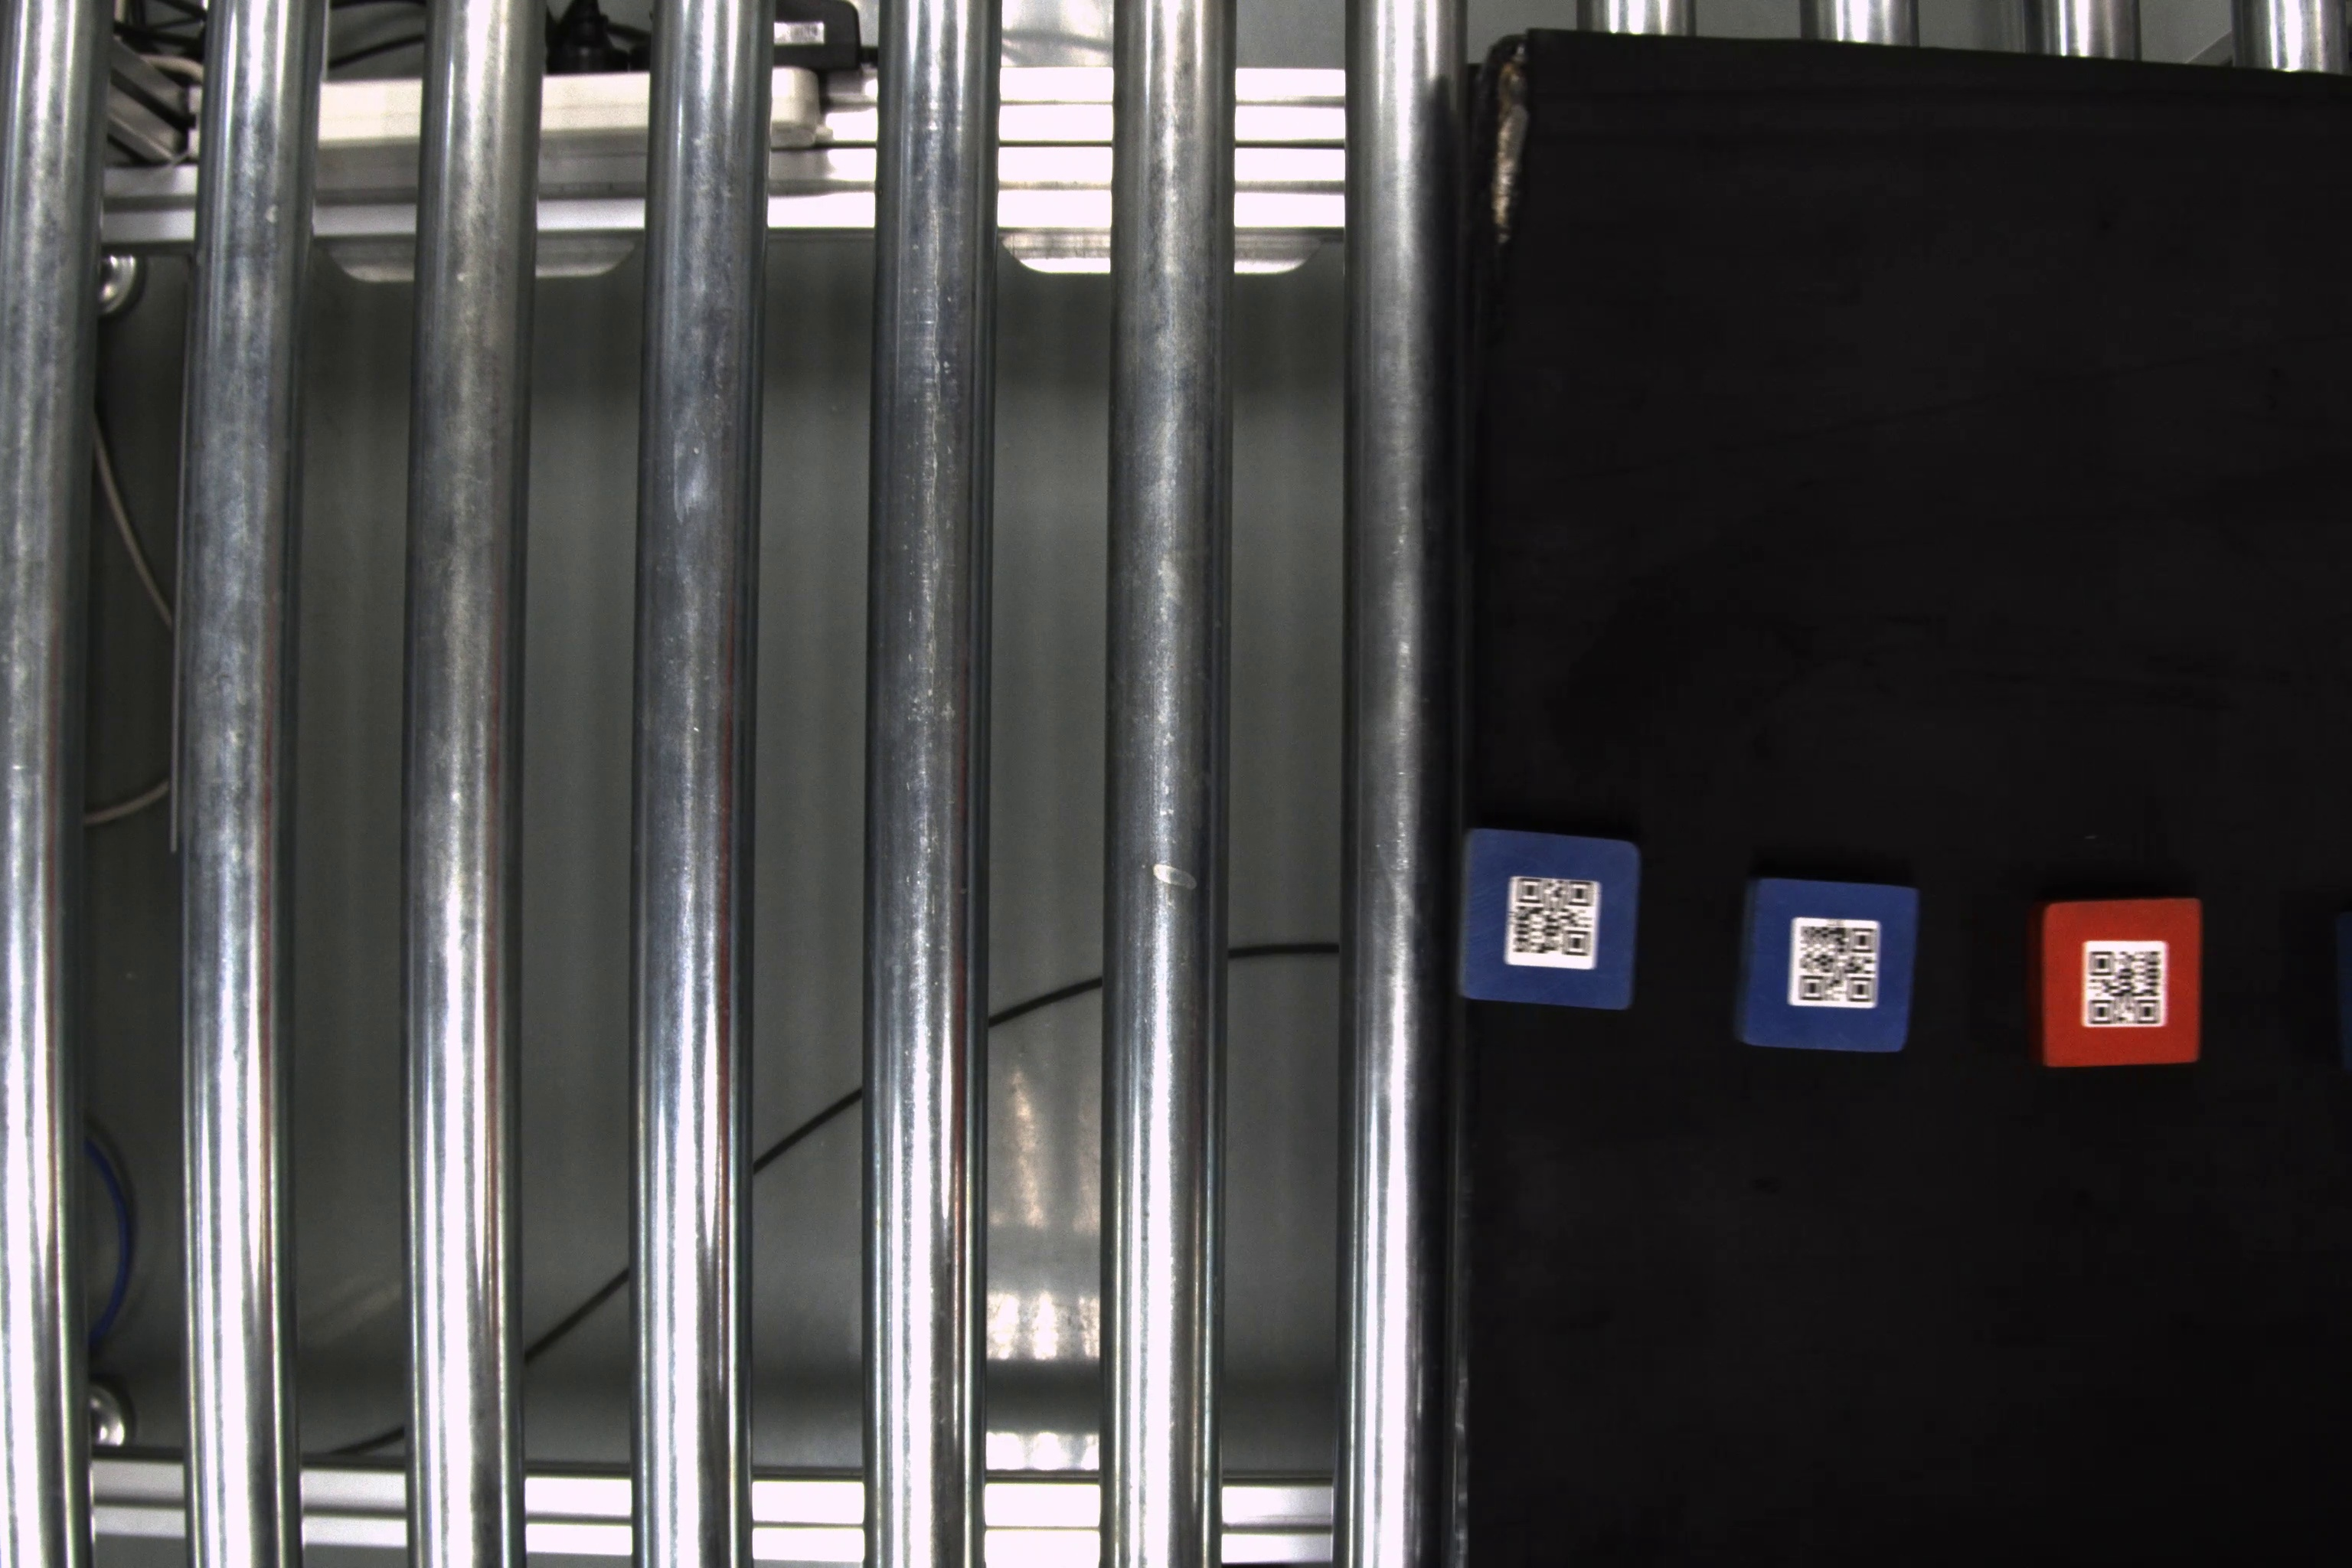wood: (1456, 826, 1647, 1011), (1739, 871, 1925, 1060), (2026, 899, 2214, 1073)
